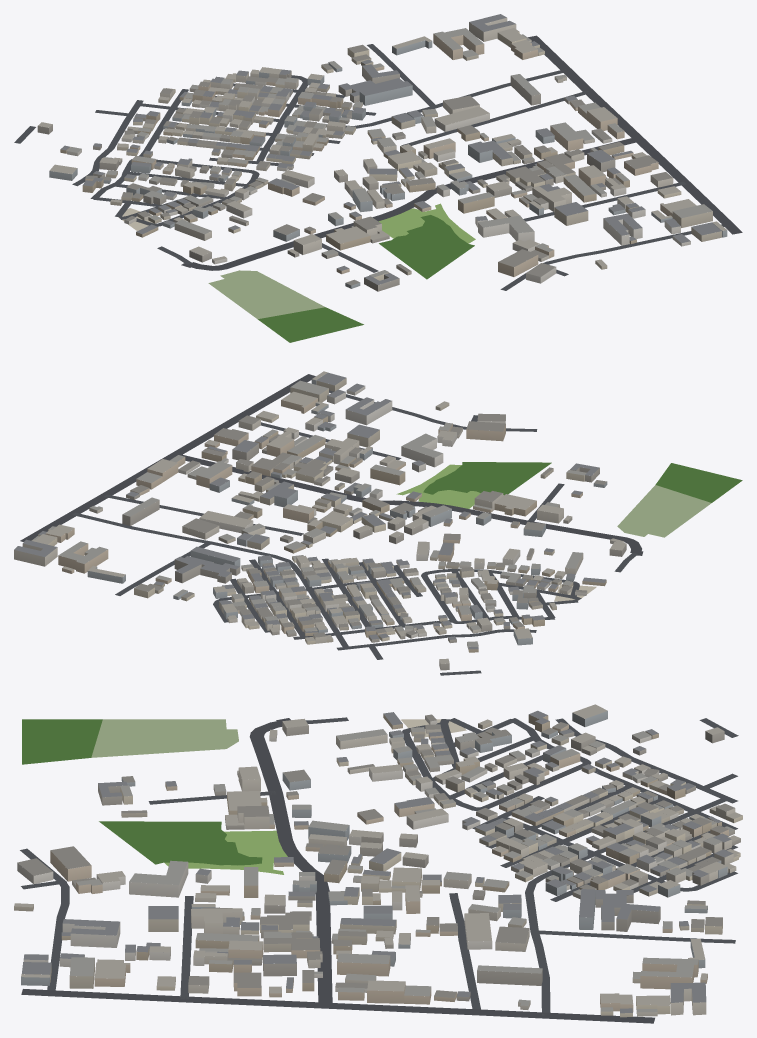
The picture shows the model from 3 angles, top to bottom: view 1: azimuth 30°, elevation 25°; view 2: azimuth 150°, elevation 25°; view 3: azimuth 270°, elevation 25°; orthographic projection. The views are drawn at different scales.
Visible parts, largest first — view 1: buildings_roofs, buildings_walls, roads, landuse; view 2: buildings_roofs, buildings_walls, roads, landuse; view 3: buildings_roofs, buildings_walls, roads, landuse.
Boxes of the visible parts, <box> form: buildings_roofs: <box>38,14,726,285</box>; buildings_walls: <box>37,18,727,291</box>; roads: <box>14,35,742,290</box>; landuse: <box>118,203,475,342</box>; buildings_roofs: <box>14,371,626,663</box>; buildings_walls: <box>14,373,626,670</box>; roads: <box>20,374,643,675</box>; landuse: <box>396,462,742,601</box>; buildings_roofs: <box>14,704,742,1013</box>; buildings_walls: <box>14,711,742,1017</box>; roads: <box>20,717,738,1023</box>; landuse: <box>22,719,466,874</box>.
Size of the model in its own units: 516 by 9.61 by 511.
